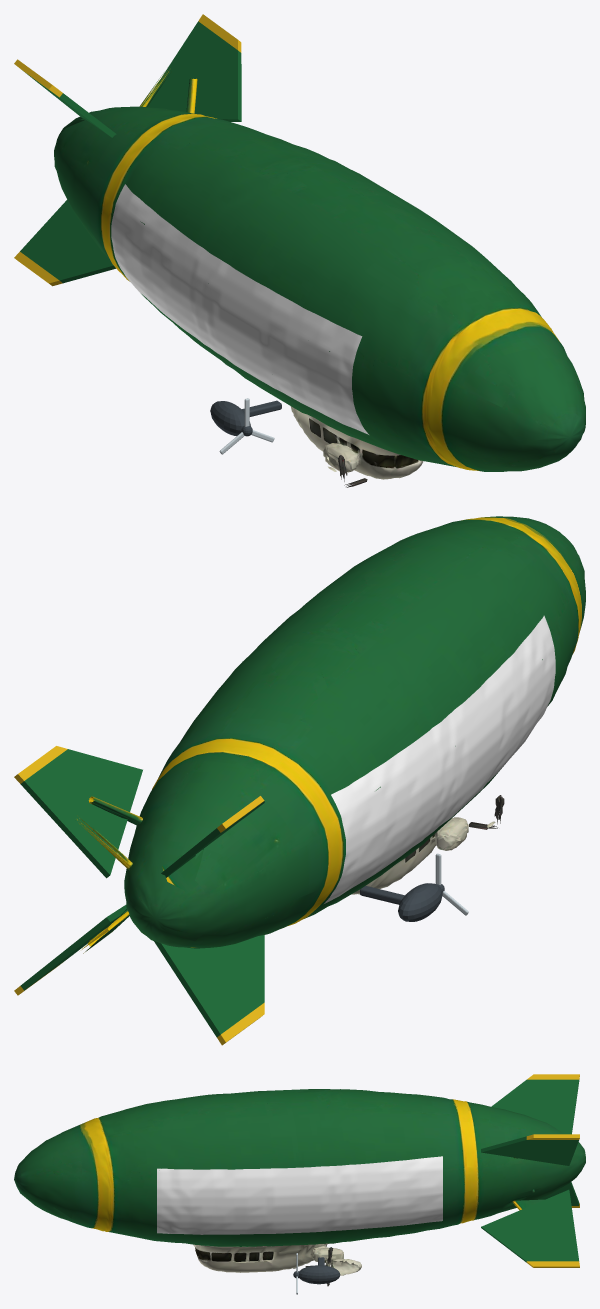
The model's file is dirigivel-0.glb.
The picture shows the model from 3 angles, top to bottom: view 1: azimuth 30°, elevation 25°; view 2: azimuth 150°, elevation 25°; view 3: azimuth 270°, elevation 25°; orthographic projection. The views are drawn at different scales.
Parts seen in each view (by area): view 1: Frota_blimp, HullBanner_L, Engine_L; view 2: Frota_blimp, HullBanner_L, Engine_L; view 3: Frota_blimp, HullBanner_R, Engine_R.
Boxes of the visible parts, x1,y1,x2,y2 form: Frota_blimp: [14, 14, 585, 487]; HullBanner_L: [111, 184, 368, 434]; Engine_L: [210, 401, 250, 436]; Frota_blimp: [14, 516, 585, 1045]; HullBanner_L: [324, 615, 555, 903]; Engine_L: [398, 883, 442, 921]; Frota_blimp: [14, 1074, 585, 1286]; HullBanner_R: [157, 1156, 442, 1234]; Engine_R: [299, 1265, 340, 1284].
Bounding box in the file's own units: 6.92 × 8.1 × 24.
4 materials, 1 textured.
